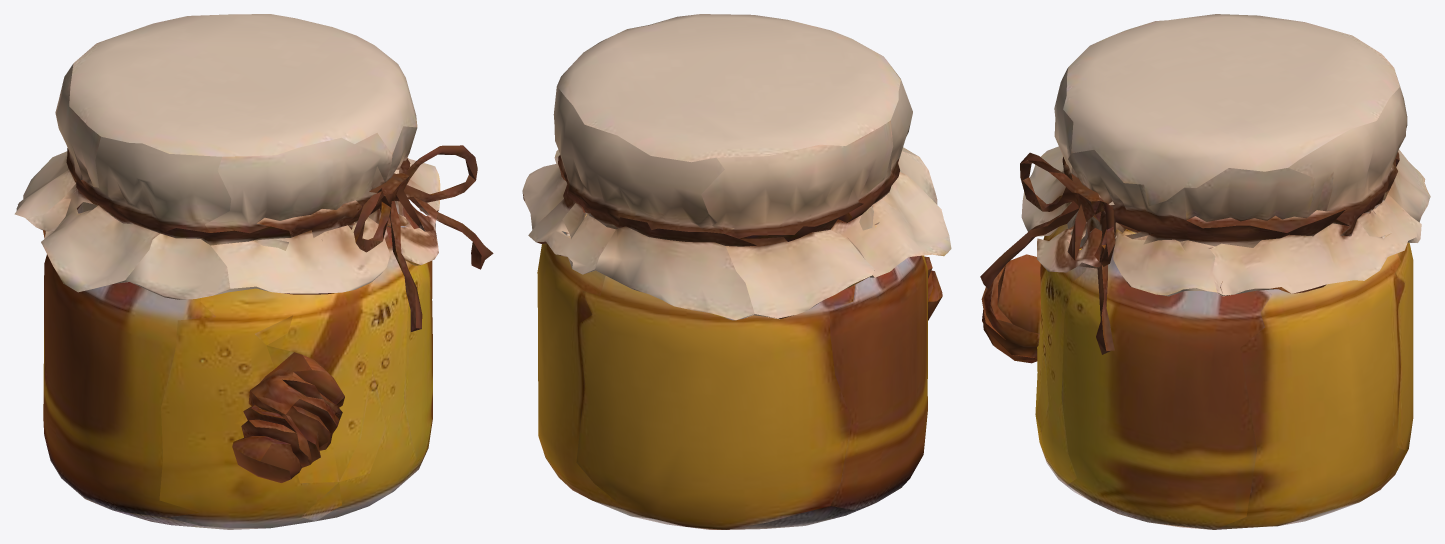
Rendered from honey.glb.
The picture shows the model from 3 angles, left to right: view 1: azimuth 30°, elevation 25°; view 2: azimuth 150°, elevation 25°; view 3: azimuth 270°, elevation 25°; orthographic projection.
Parts seen in each view (by area): view 1: honey; view 2: honey; view 3: honey.
Boxes of the visible parts, <box> form: honey: <box>14,14,493,529</box>; honey: <box>522,14,951,529</box>; honey: <box>980,14,1430,529</box>.
Bounding box in the file's own units: 0.9936 × 0.927 × 1.
Materials: 1 (1 with a texture image).
